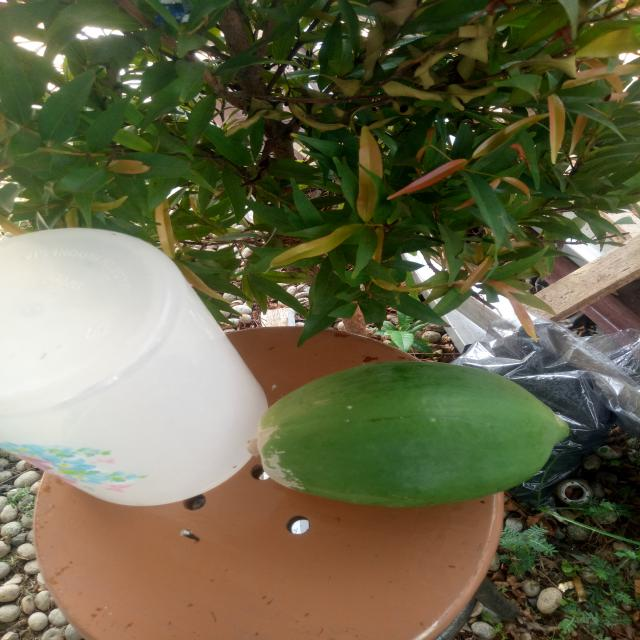Pepaya unrippen: (242, 358, 572, 512)
